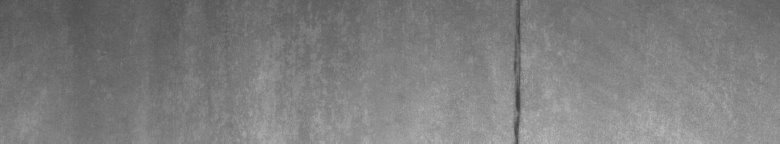hd: (508, 4, 528, 136)
